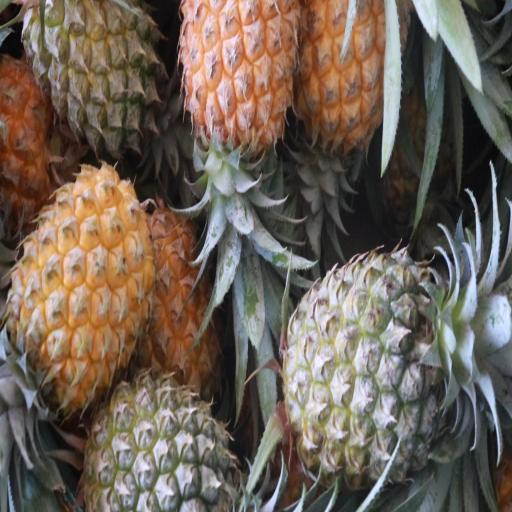------------------------------: (26, 0, 166, 157)
Pineapple - v8 v1: (2, 168, 149, 413), (178, 0, 297, 161), (299, 0, 409, 158), (146, 217, 235, 392)
